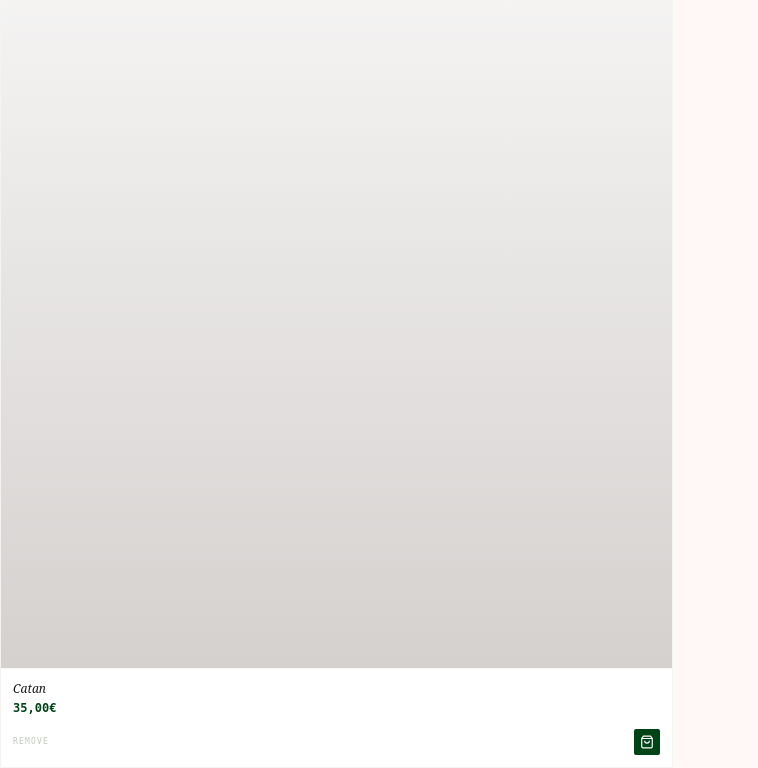
it: FavoritosTab › elimina el favorito al confirmar
The image size is (758, 768).
(page scrolled)
Click the button "remove". click: [31, 742]
box: x1=13 y1=736 x2=49 y2=748
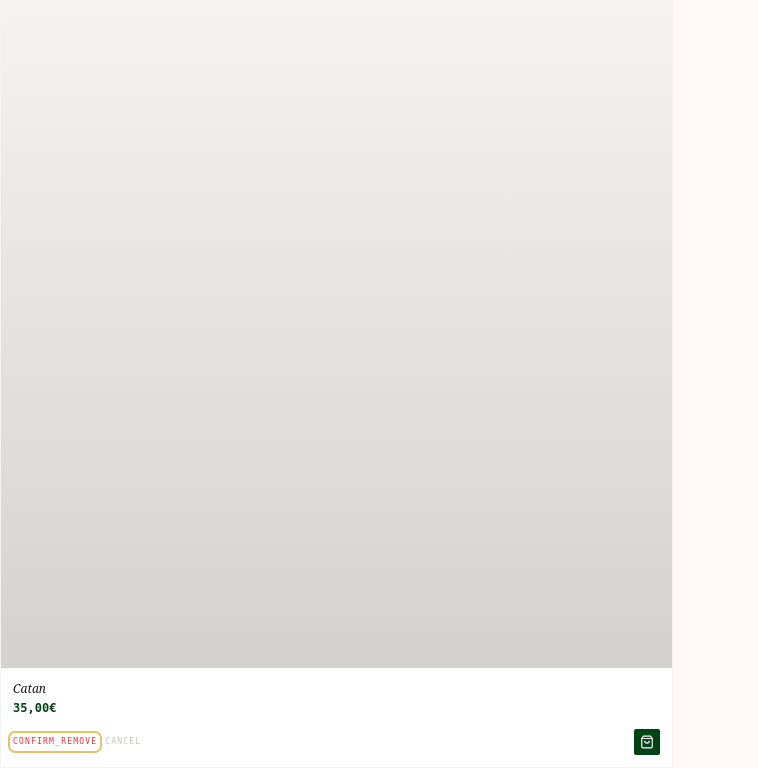
Click the button "confirm_remove". click: [55, 742]
box: x1=13 y1=736 x2=97 y2=748
(page scrolled)
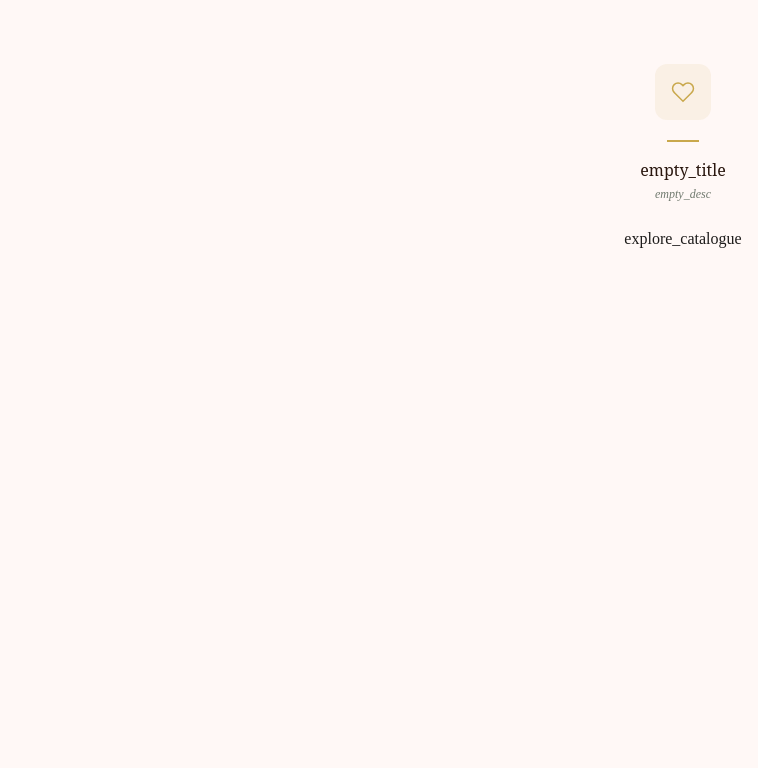
Expected: the link "Catan" is gone
